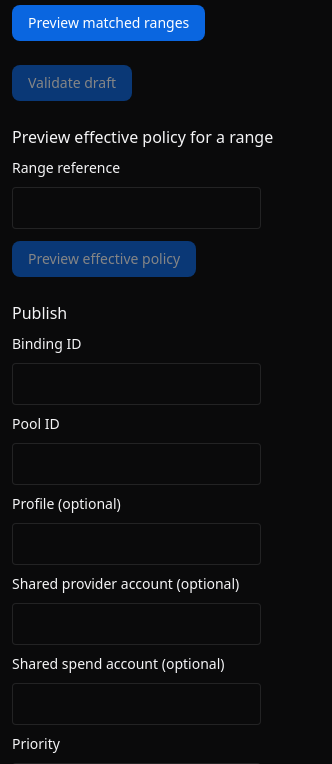
Test: ModelAccessSharing › validates a draft before publication
(page scrolled)
Type "b1" into the field labelled "Binding ID" at (136, 384), box x1=12 y1=363 x2=261 y2=405
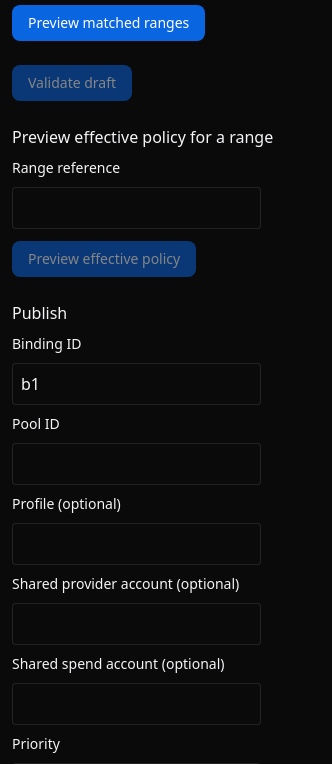
Type "pool-a" into the field labelled "Pool ID" at (136, 464), box x1=12 y1=443 x2=261 y2=485
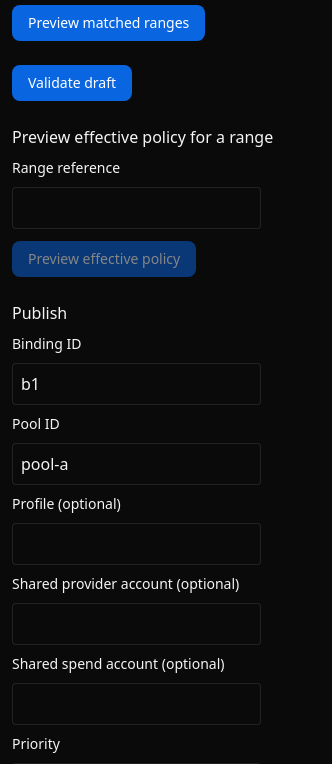
Click the button "Validate draft" at (72, 83), box x1=12 y1=65 x2=132 y2=101
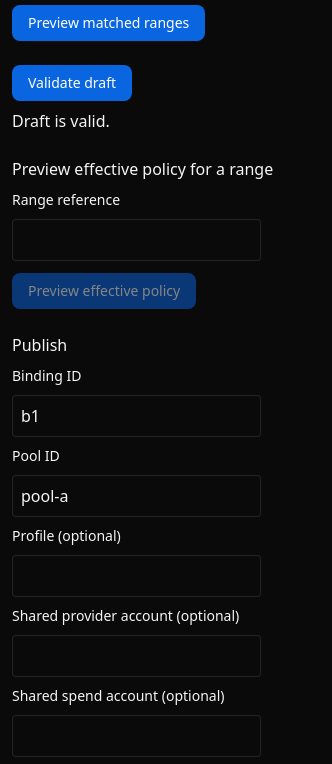
Expected: the text "Draft is valid." is shown, x1=12 y1=110 x2=110 y2=132
